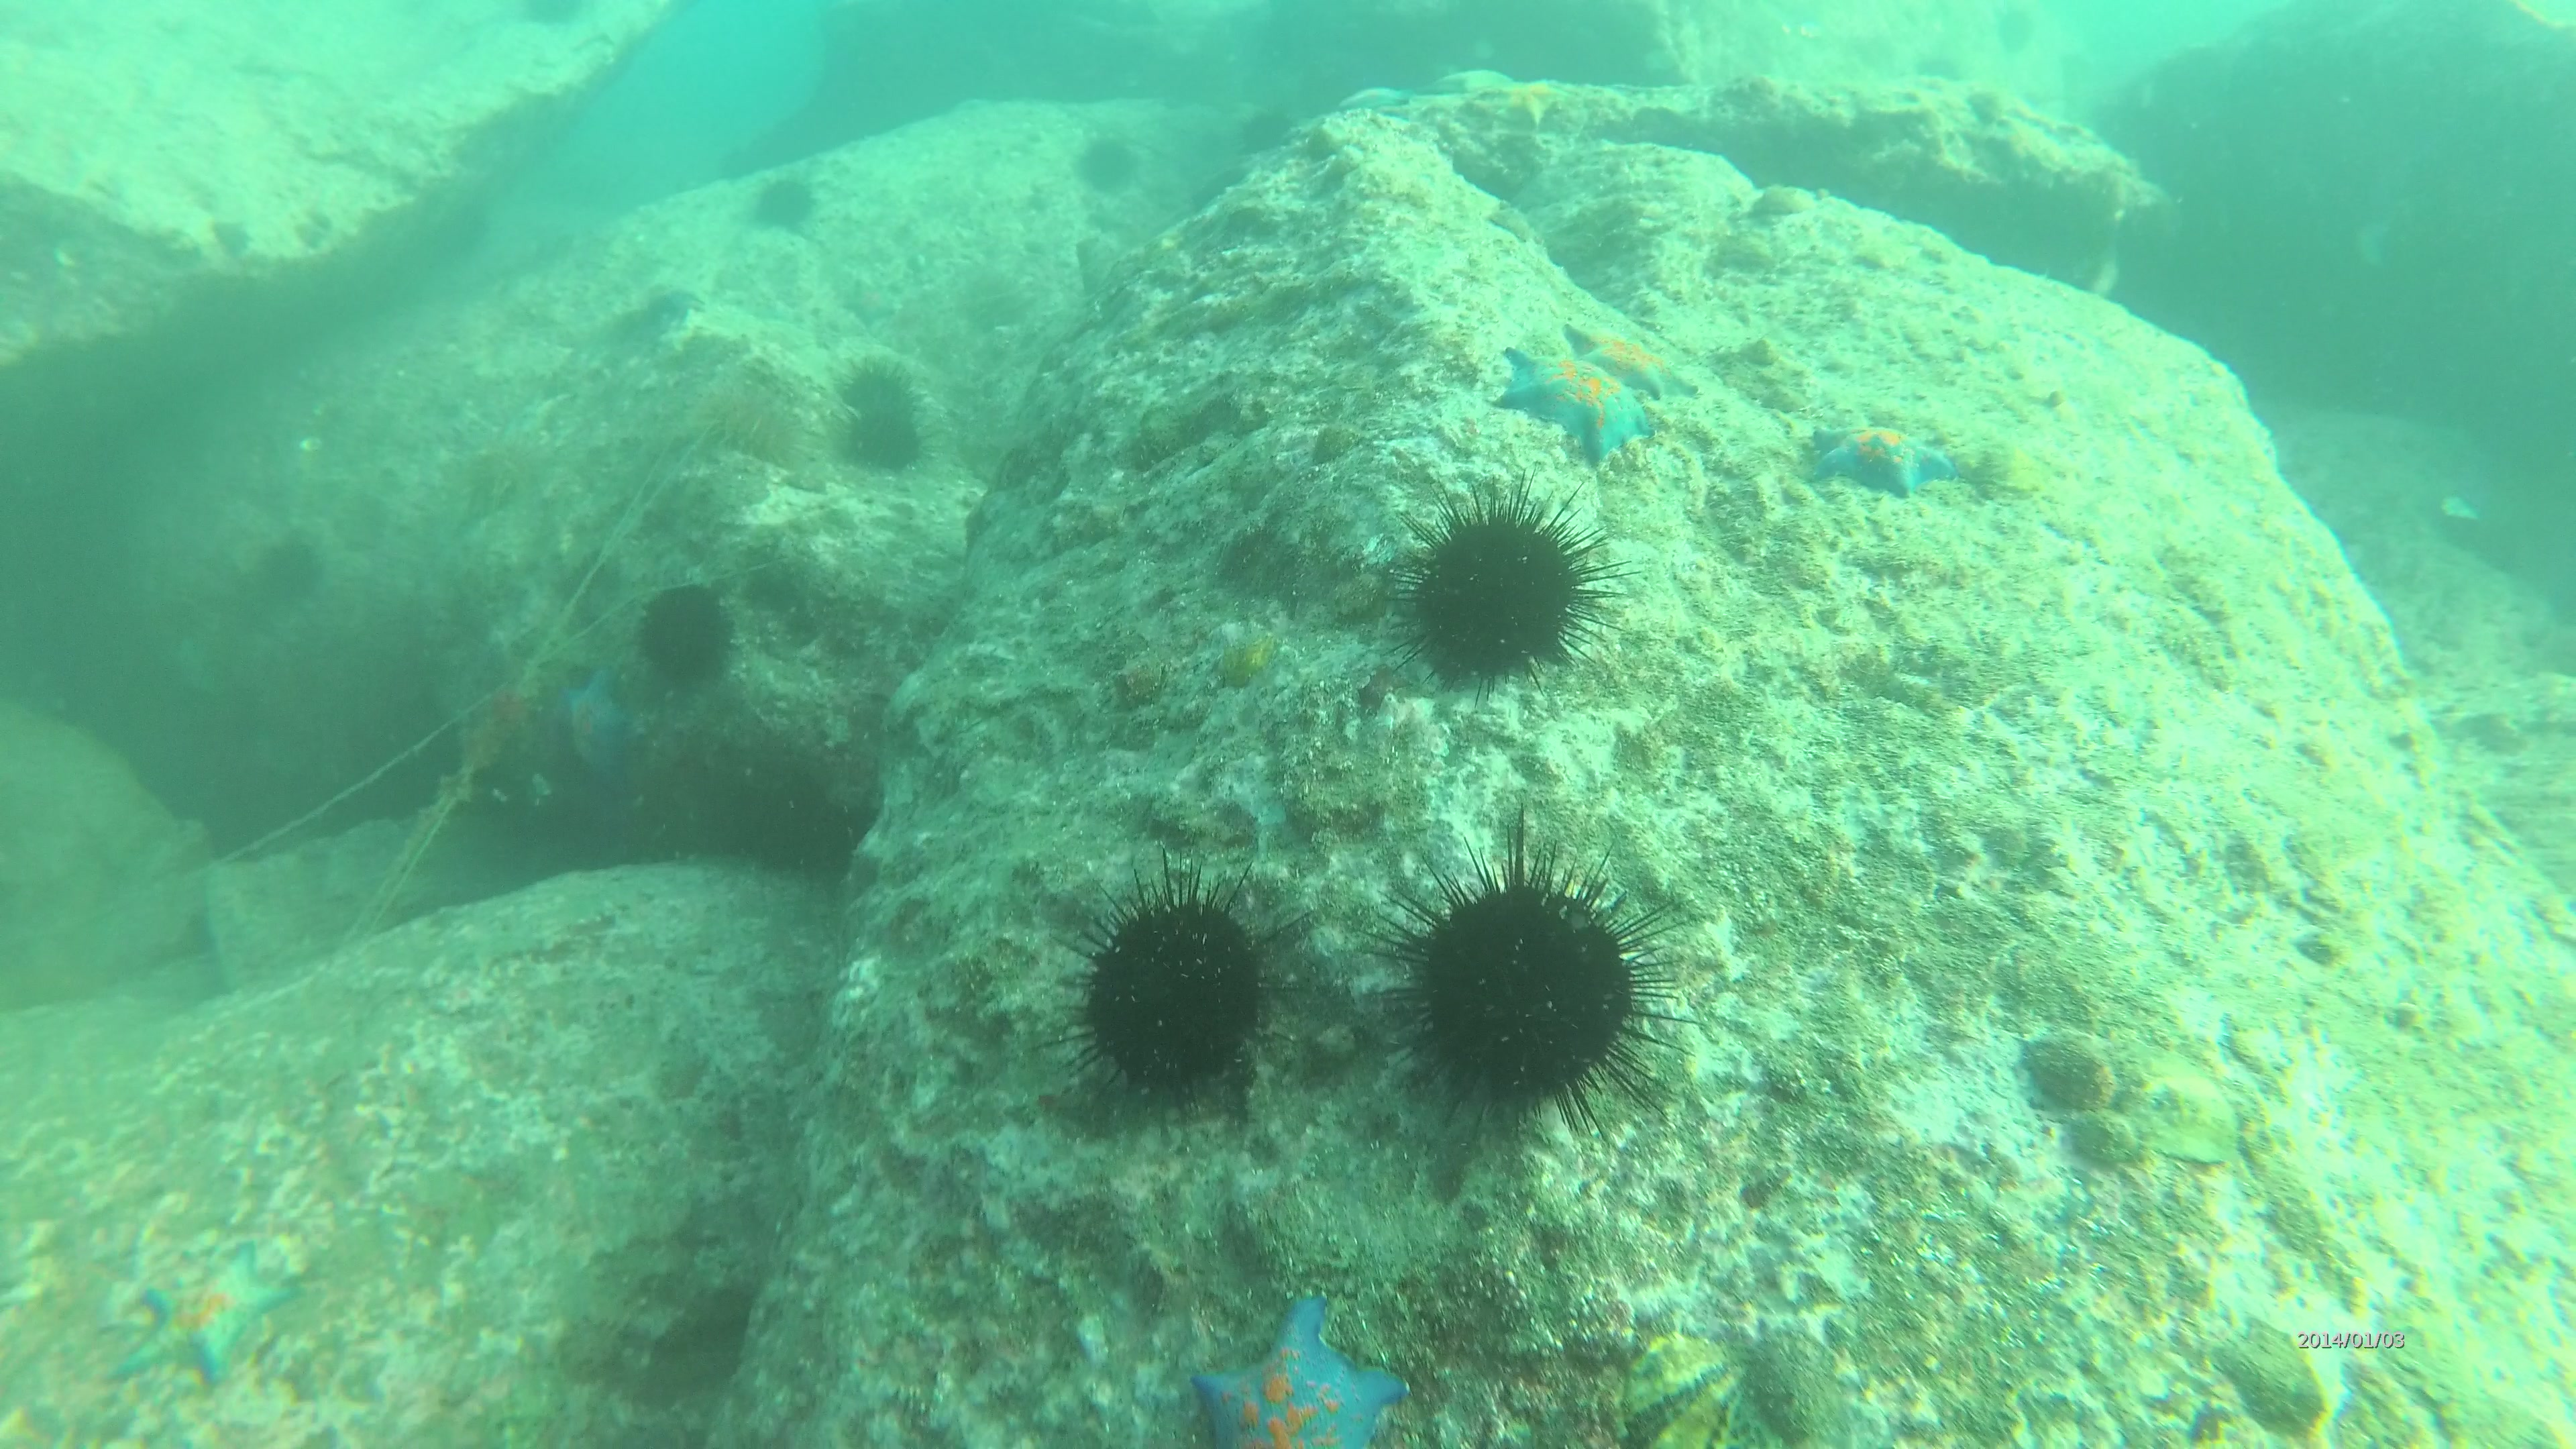echinus: (1380, 839, 1651, 1134), (1072, 862, 1302, 1099), (1391, 479, 1617, 686), (633, 591, 741, 690), (830, 352, 920, 433), (844, 400, 931, 481), (747, 172, 828, 237), (1077, 142, 1146, 196)
starfish: (1189, 1295, 1415, 1449), (129, 1238, 288, 1396), (1499, 338, 1658, 465), (1819, 414, 1966, 511), (1566, 313, 1698, 405), (556, 674, 640, 780), (1481, 67, 1566, 133)
